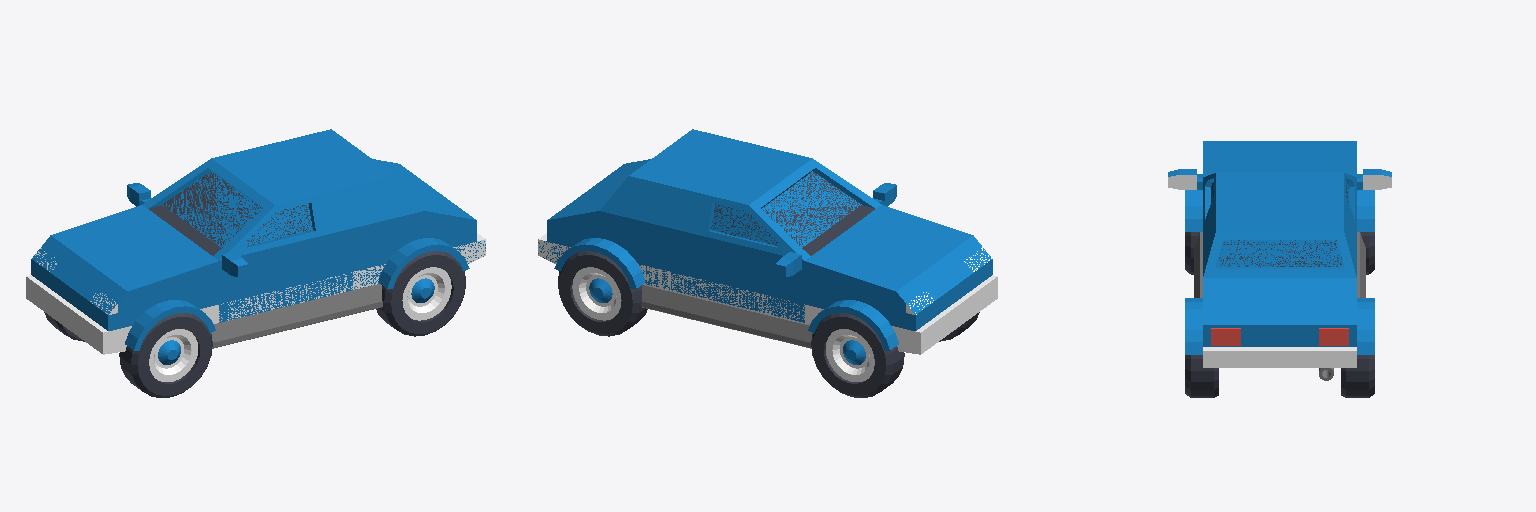
Rendered from car2.obj.
3 views of the same model, side by side, from view 1: azimuth 30°, elevation 25°; view 2: azimuth 150°, elevation 25°; view 3: azimuth 270°, elevation 25° (orthographic).
Size of the model in its own units: 2.87 by 1.11 by 1.45.